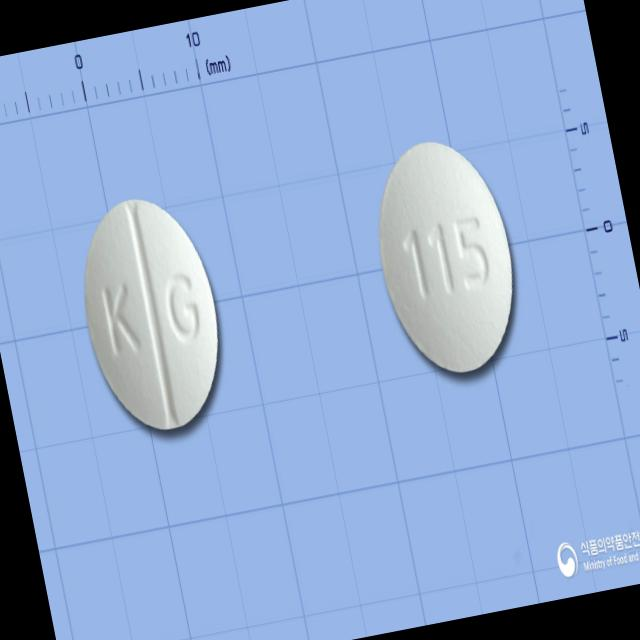Ciprocin - 259mg: (356, 117, 540, 394), (63, 182, 244, 451)
